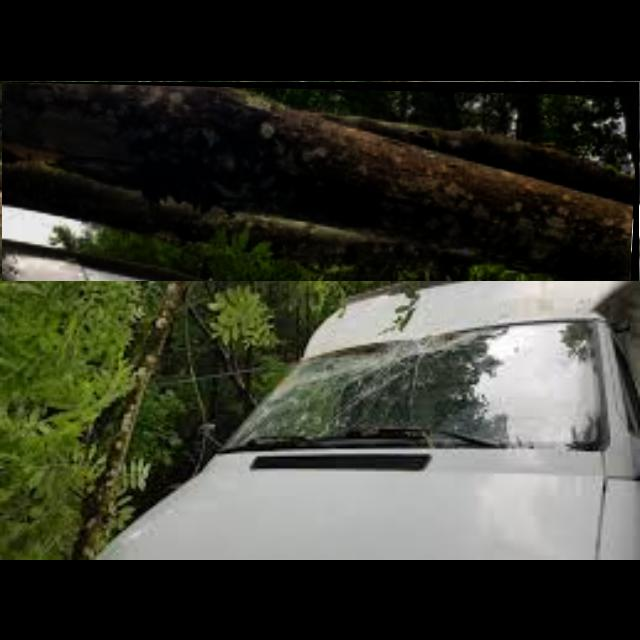Fallen Tree: (2, 82, 640, 282)
